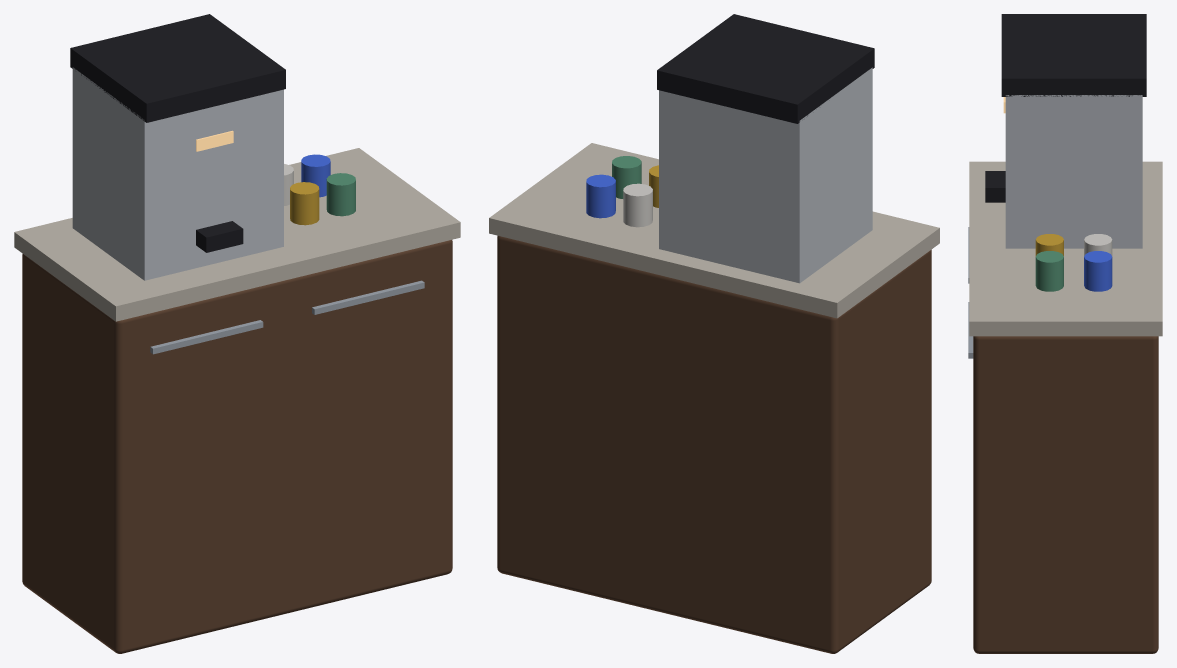
File: cafeteira.glb
3 views of the same model, side by side, from view 1: azimuth 30°, elevation 25°; view 2: azimuth 150°, elevation 25°; view 3: azimuth 270°, elevation 25° (orthographic). The views are drawn at different scales.
Visible parts, largest first — view 1: cafeteira_malha; view 2: cafeteira_malha; view 3: cafeteira_malha.
Part boxes in pixels (left/top/right/bottom): cafeteira_malha: left=14, top=14, right=460, bottom=653; cafeteira_malha: left=489, top=14, right=939, bottom=653; cafeteira_malha: left=968, top=14, right=1162, bottom=653.
Bounding box in the file's own units: 0.94 × 1.39 × 0.4825.
